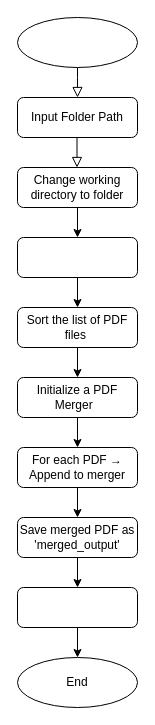
This 155x725 diagram has some shape labels left out. Each missing label, with the centre of its shape:
List all files ending with '.pdf': (x=77, y=257)
Print "Merged Successfully!": (x=77, y=607)
Start: (x=77, y=42)
